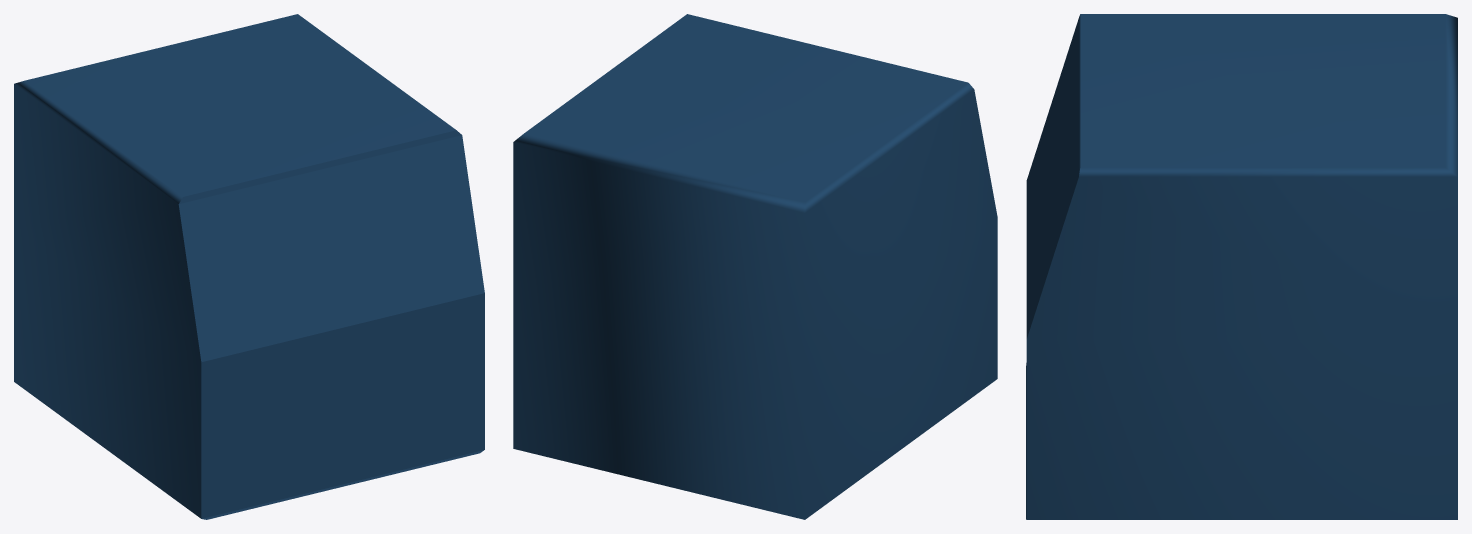
File: B_Stone_05_Break_B.fbx
3 renders of one model, left to right at view 1: azimuth 30°, elevation 25°; view 2: azimuth 150°, elevation 25°; view 3: azimuth 270°, elevation 25°, orthographic. The views are drawn at different scales.
Visible parts, largest first — view 1: B_Stone_05_Break_B; view 2: B_Stone_05_Break_B; view 3: B_Stone_05_Break_B.
Boxes of the visible parts, x1,y1,x2,y2 form: B_Stone_05_Break_B: (14, 14, 484, 519); B_Stone_05_Break_B: (513, 14, 997, 519); B_Stone_05_Break_B: (1026, 14, 1457, 519).
Size of the model in its own units: 94.97 by 97.88 by 109.
